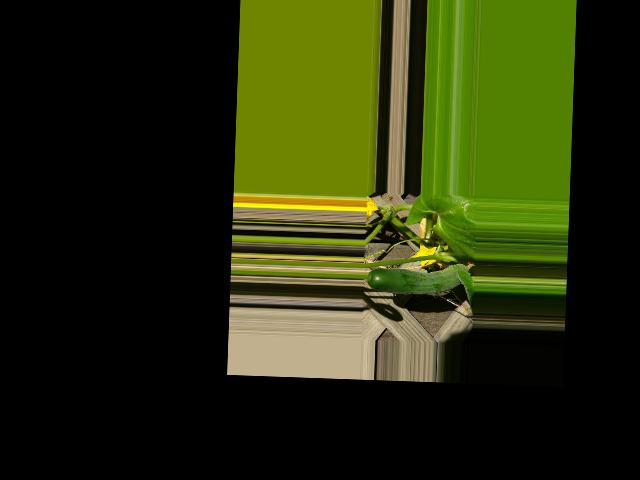cucumber: (368, 260, 474, 297)
